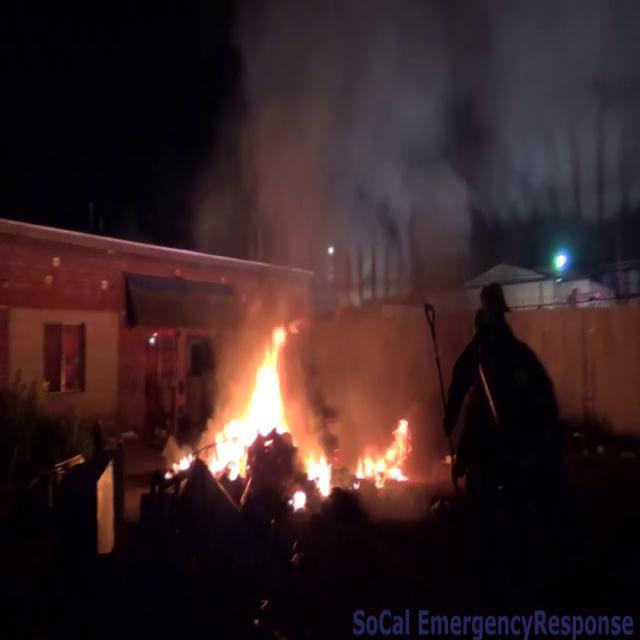Fire: (204, 320, 302, 484), (360, 415, 418, 488), (296, 440, 336, 506)
Smoke: (185, 0, 494, 415)
